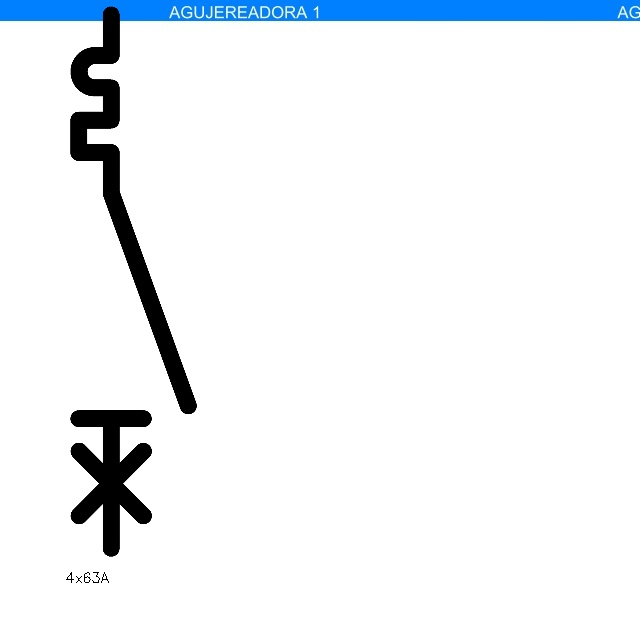interruptor_termomagnetico: (65, 1, 202, 562)
